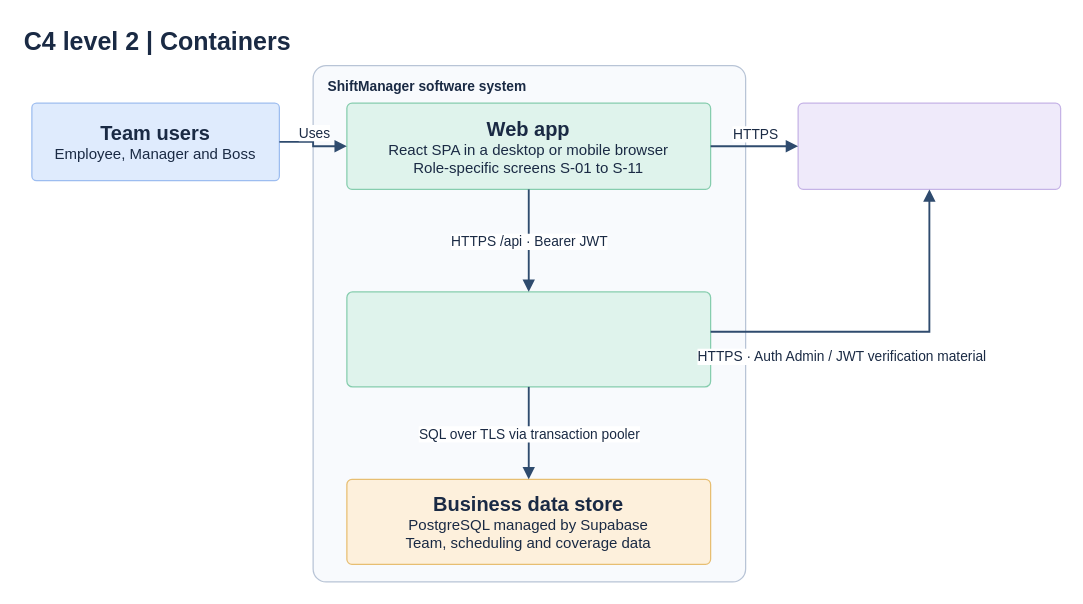
Image size: 1083x604. Some labels were removed from this diagram. The centre of each missing label's shape, as x and y in pixels:
"API Node.js and Express REST API Authorization and business transactions" belongs at (528,339).
"Supabase Auth Managed identity, session and JWT" belongs at (929,145).
